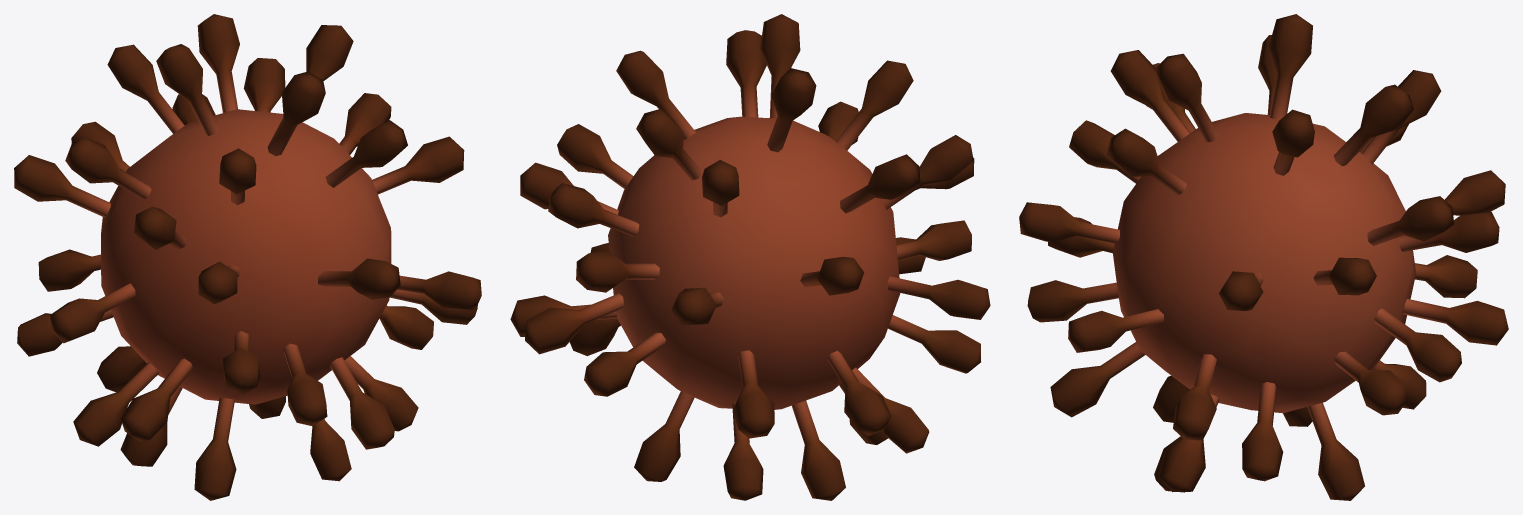
File: microscopic-viruses-coronavirus_v7.fbx
3 views of the same model, side by side, from view 1: azimuth 30°, elevation 25°; view 2: azimuth 150°, elevation 25°; view 3: azimuth 270°, elevation 25° (orthographic). The views are drawn at different scales.
Visible parts, largest first — view 1: Coronavirus_v7; view 2: Coronavirus_v7; view 3: Coronavirus_v7.
Boxes of the visible parts, x1,y1,x2,y2 form: Coronavirus_v7: (14, 14, 481, 500); Coronavirus_v7: (510, 14, 990, 500); Coronavirus_v7: (1019, 14, 1508, 500).
Bounding box in the file's own units: 0.12 × 0.114 × 0.1192.
